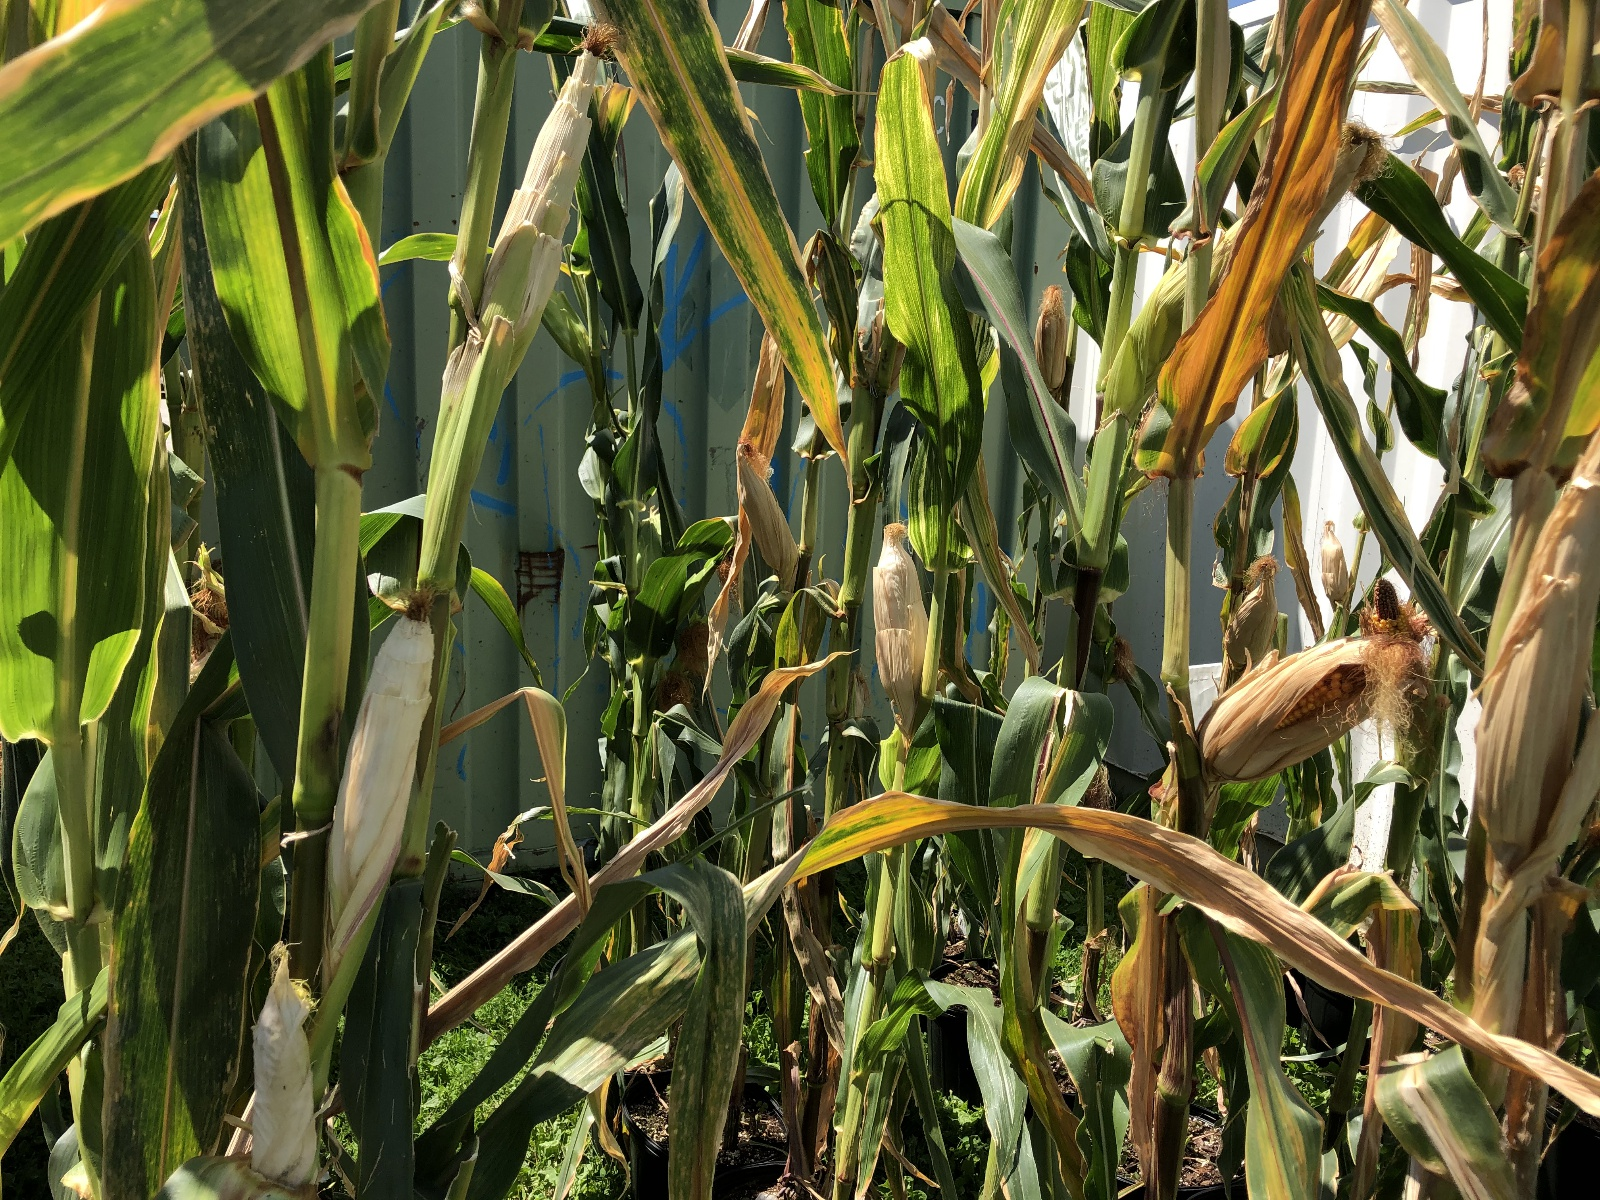ear: (1136, 113, 1383, 342), (1468, 429, 1600, 834), (472, 13, 622, 366), (317, 586, 450, 897), (1194, 614, 1401, 784), (242, 935, 324, 1184), (863, 512, 945, 695), (726, 431, 810, 577), (1220, 550, 1285, 676), (1361, 576, 1425, 661), (1031, 279, 1071, 397), (1317, 517, 1356, 605)
